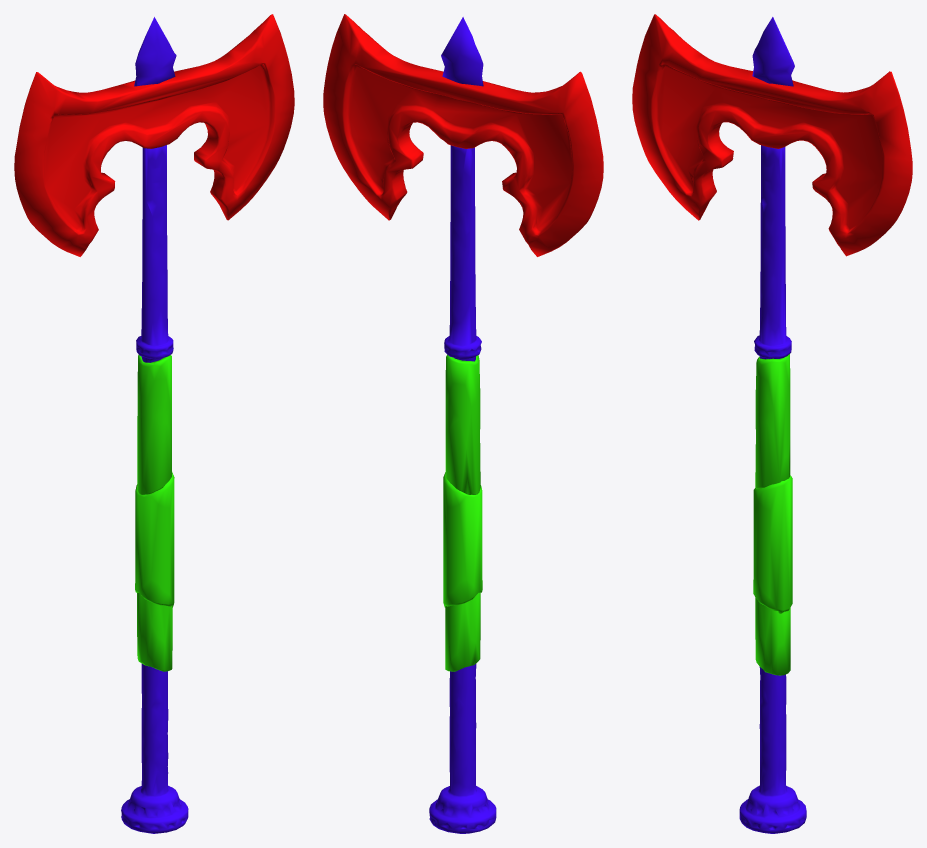
Rendered from Axe.fbx.
3 renders of one model, left to right at view 1: azimuth 30°, elevation 25°; view 2: azimuth 150°, elevation 25°; view 3: azimuth 330°, elevation 25°, orthographic.
Visible parts, largest first — view 1: Group15987, Group36398, Group43288; view 2: Group15987, Group36398, Group43288; view 3: Group15987, Group36398, Group43288.
Boxes of the visible parts, x1,y1,x2,y2 form: Group15987: (14, 14, 294, 256); Group36398: (121, 17, 188, 833); Group43288: (135, 355, 174, 671); Group15987: (323, 14, 603, 256); Group36398: (429, 17, 496, 833); Group43288: (443, 354, 482, 671); Group15987: (632, 14, 912, 256); Group36398: (739, 17, 806, 833); Group43288: (753, 354, 792, 675).
Size of the model in its own units: 33.25 by 92.41 by 6.92.
